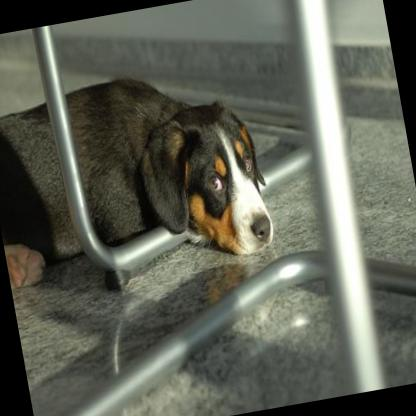EntleBucher: (0, 57, 275, 294)
